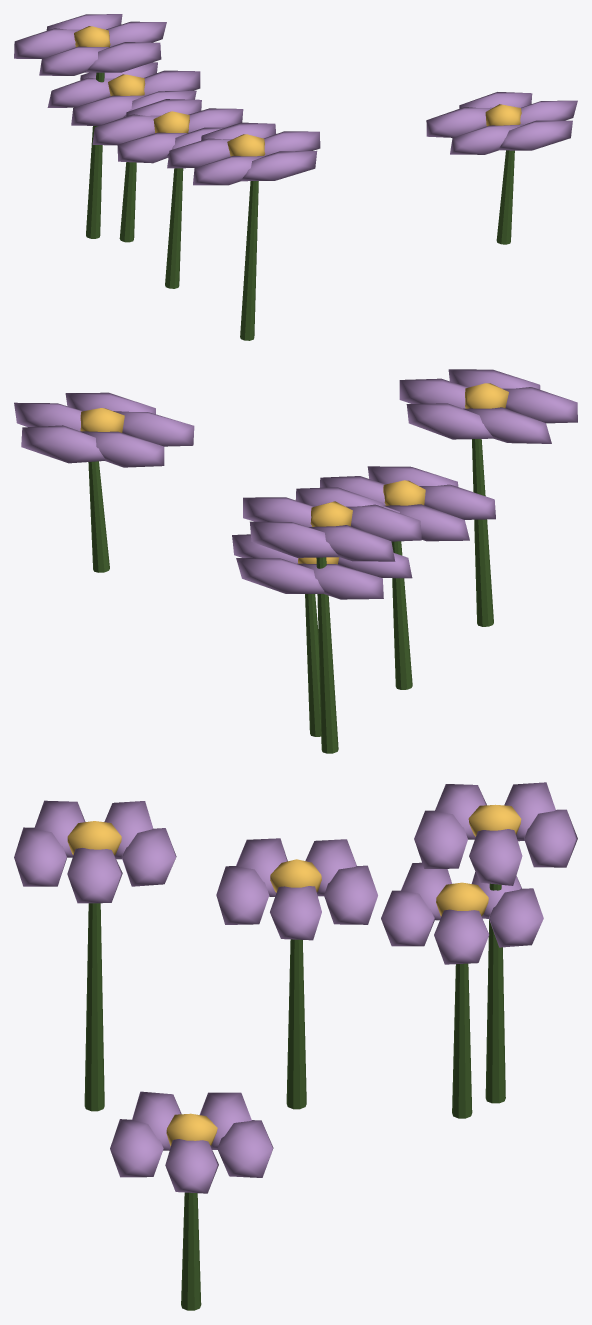
The model's file is valley_lavender.glb.
The picture shows the model from 3 angles, top to bottom: view 1: azimuth 30°, elevation 25°; view 2: azimuth 150°, elevation 25°; view 3: azimuth 270°, elevation 25°; orthographic projection. The views are drawn at different scales.
Parts seen in each view (by area): view 1: valley_lavender; view 2: valley_lavender; view 3: valley_lavender.
Boxes of the visible parts, bbox=[...] form: valley_lavender: bbox=[14, 14, 577, 340]; valley_lavender: bbox=[14, 369, 577, 753]; valley_lavender: bbox=[14, 782, 577, 1310].
Bounding box in the file's own units: 1.26 × 0.5709 × 0.9897.
